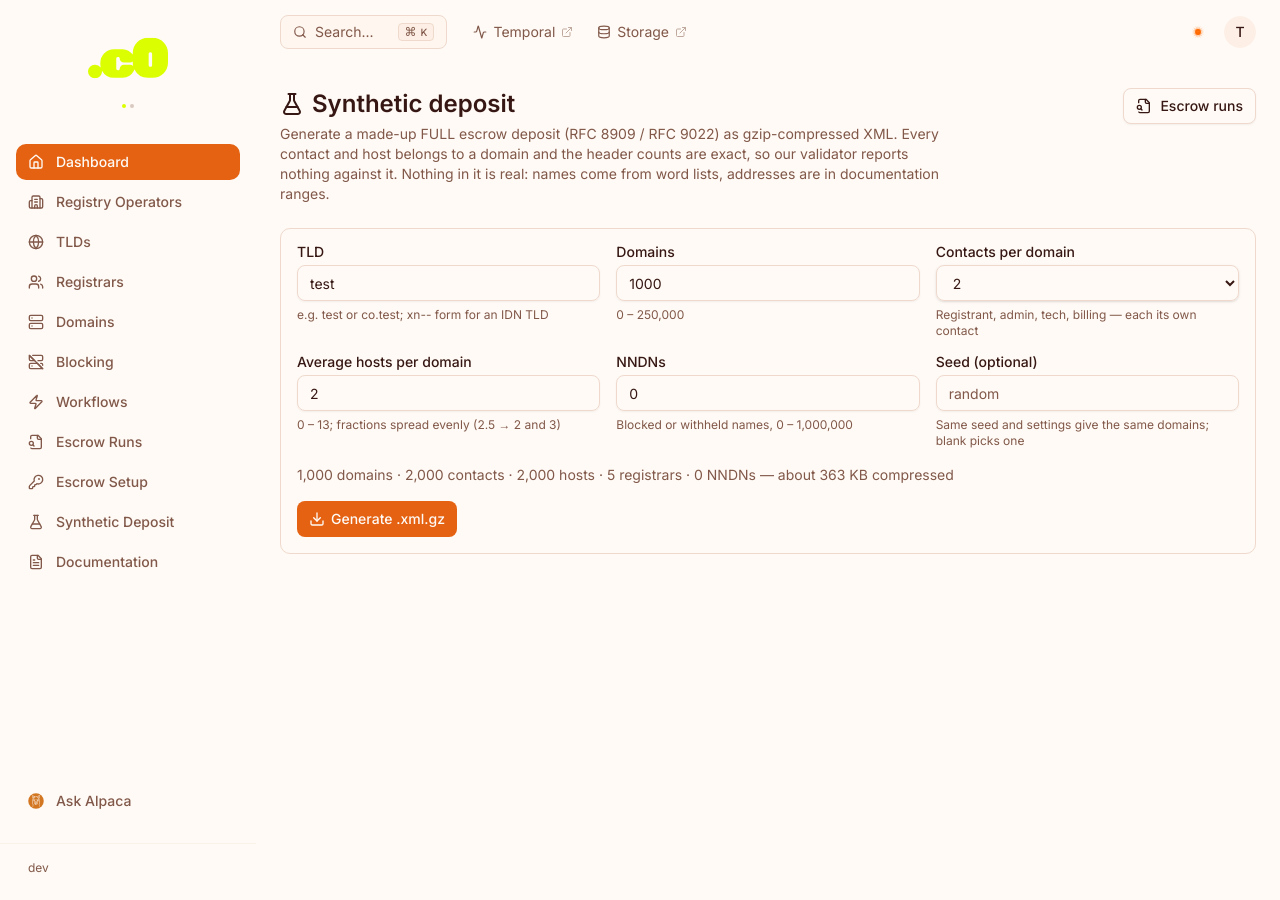
Test: SyntheticDepositPage › shows the objects the deposit will carry
The image size is (1280, 900).
Replace the text in the number field labelled "Domains" with "10" at [768, 283], box 616,265 -> 920,301
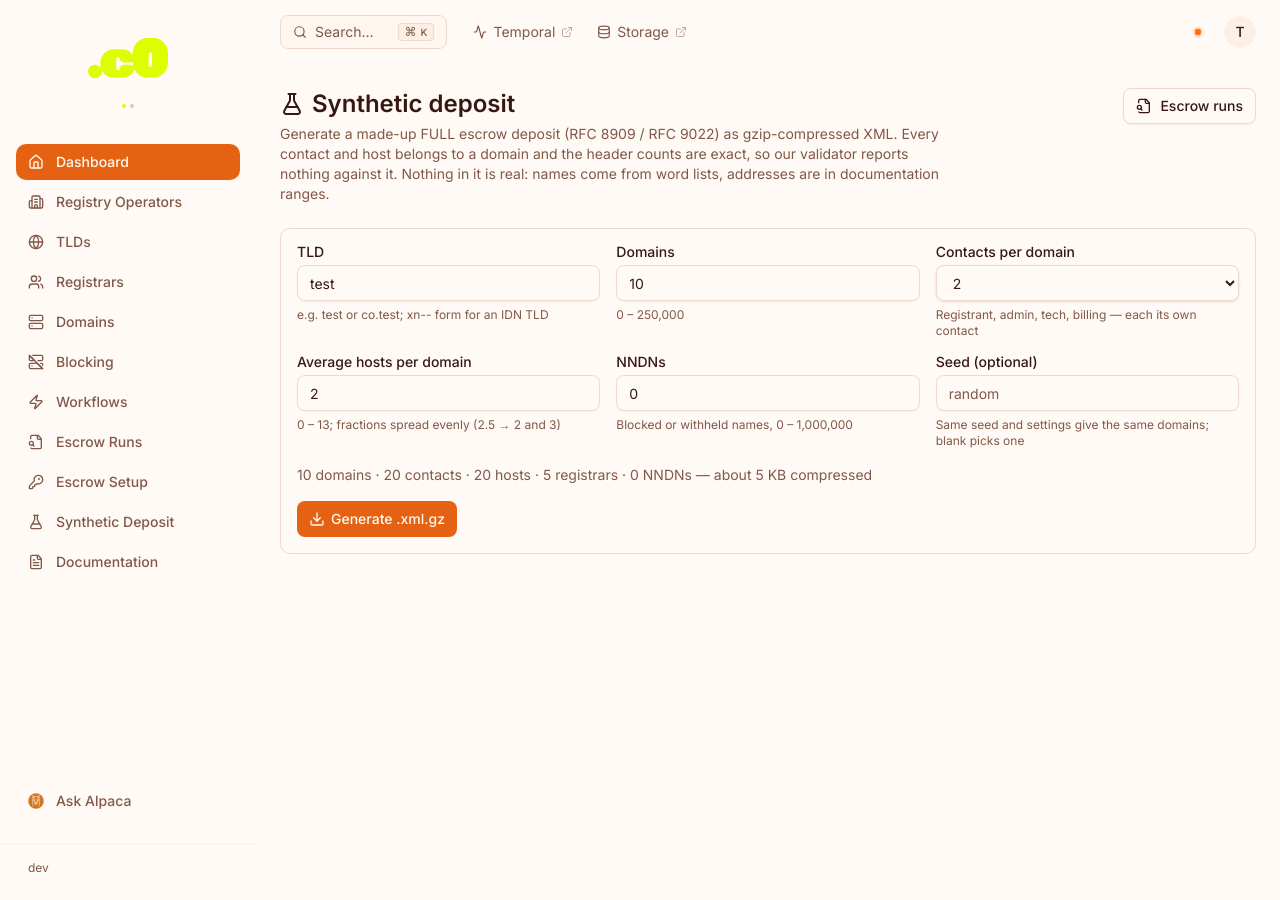
Select "4" in the dropdown labelled "Contacts per domain" at [1087, 283], box 936,265 -> 1239,301
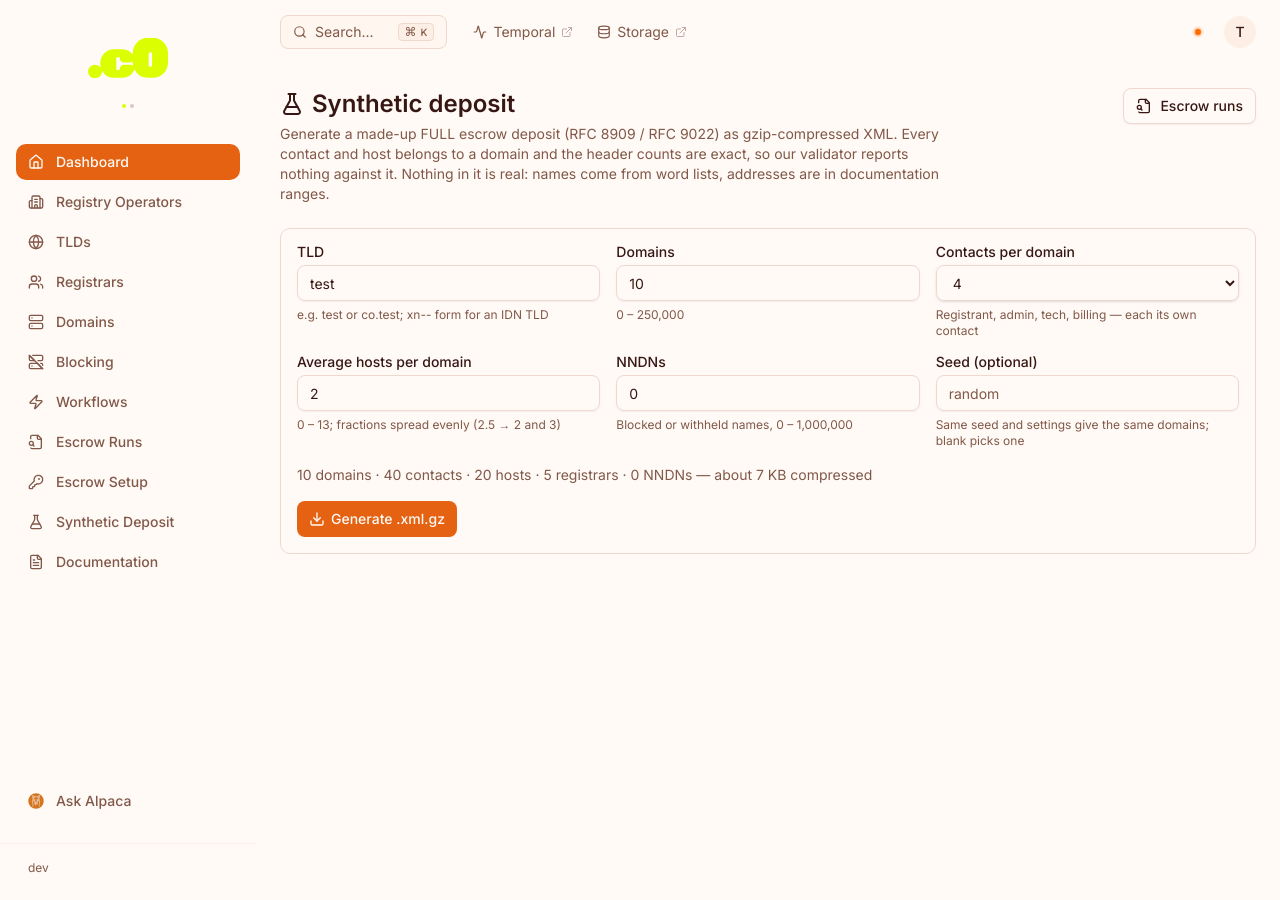
Replace the text in the number field labelled "Average hosts per domain" with "1.5" at [449, 393], box 297,375 -> 600,411
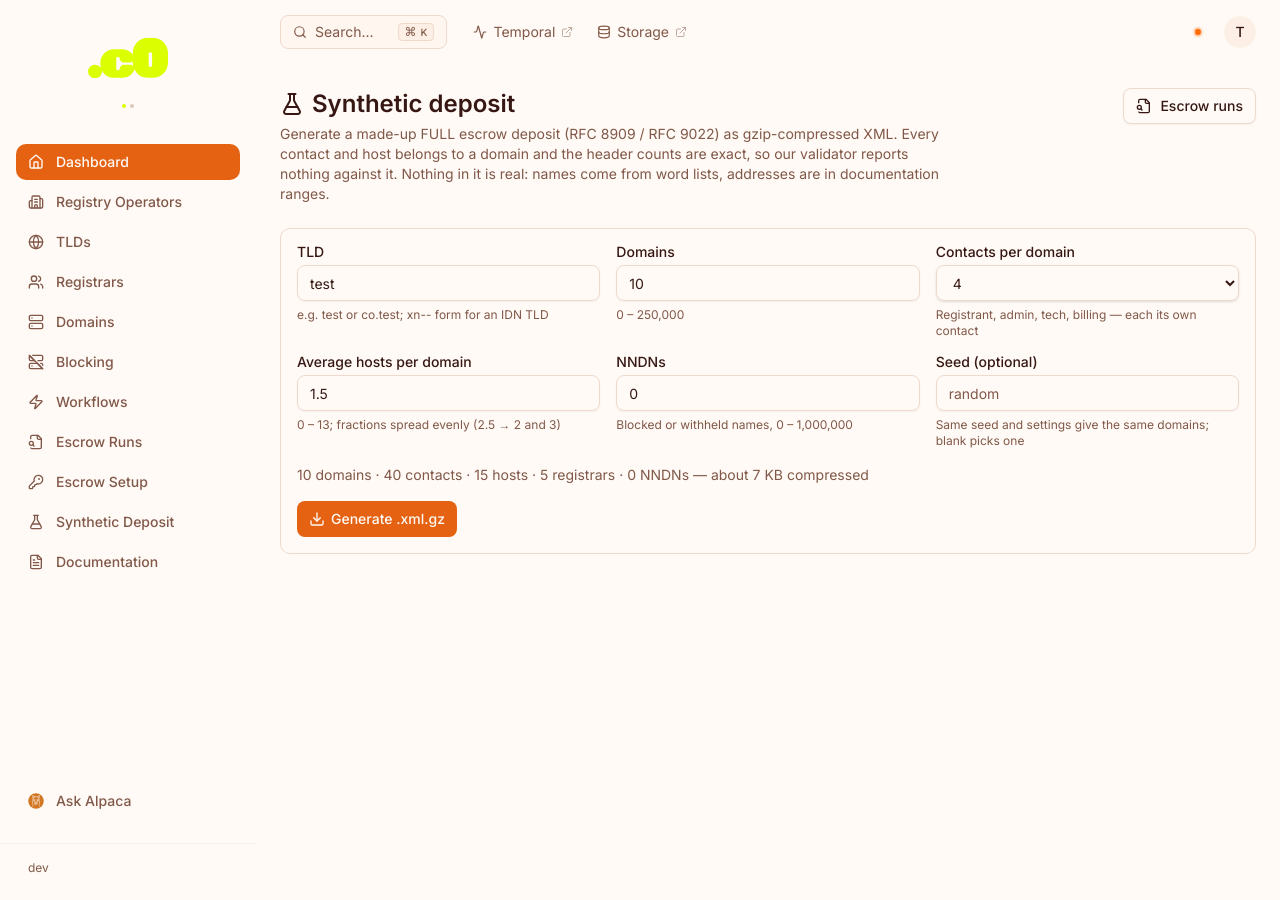
Replace the text in the number field labelled "NNDNs" with "3" at [768, 393], box 616,375 -> 920,411
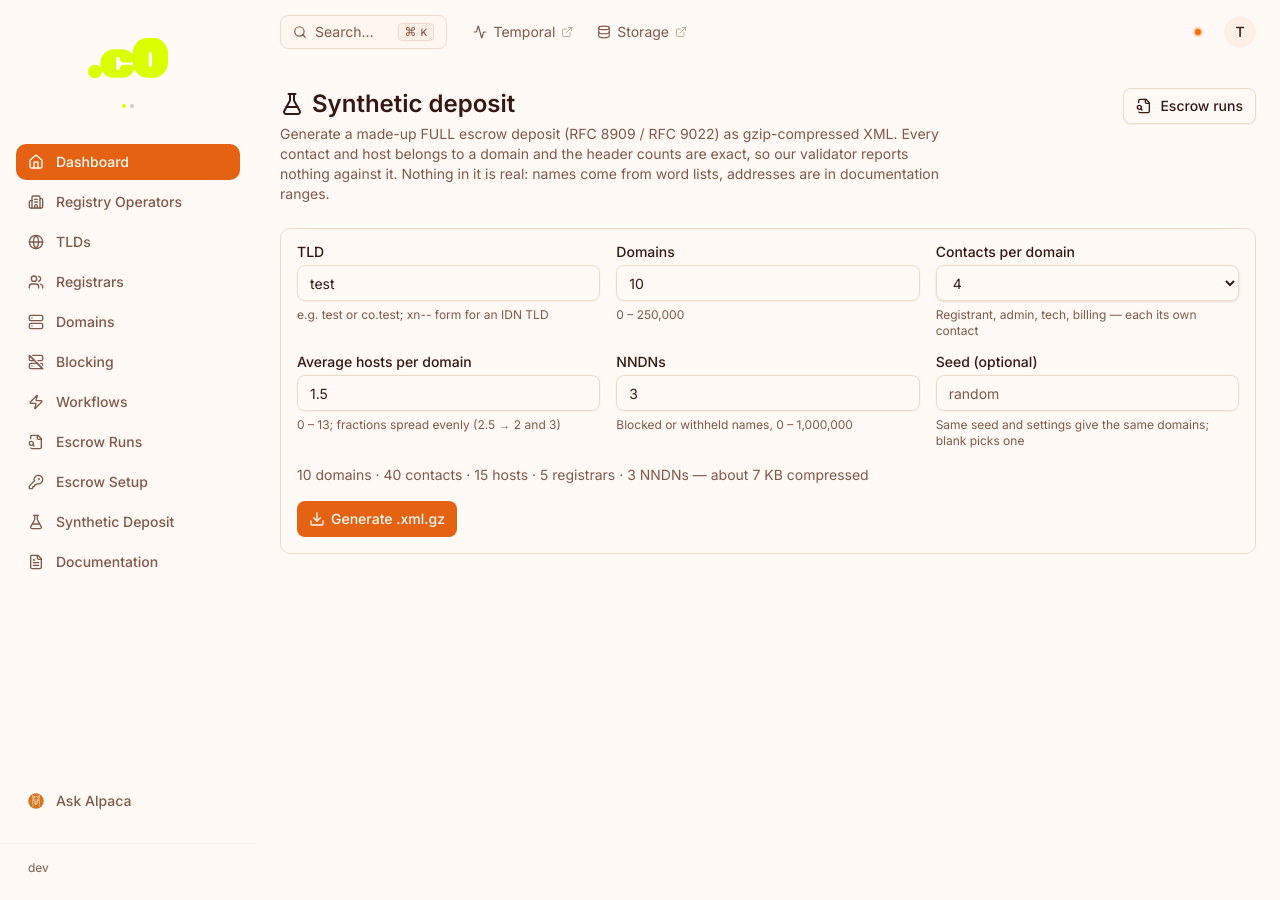
Result: the text with test id "synthetic-summary" shows "10 domains · 40 contacts · 15 hosts · 5 registrars · 3 NNDNs" at 297,466 -> 869,483
